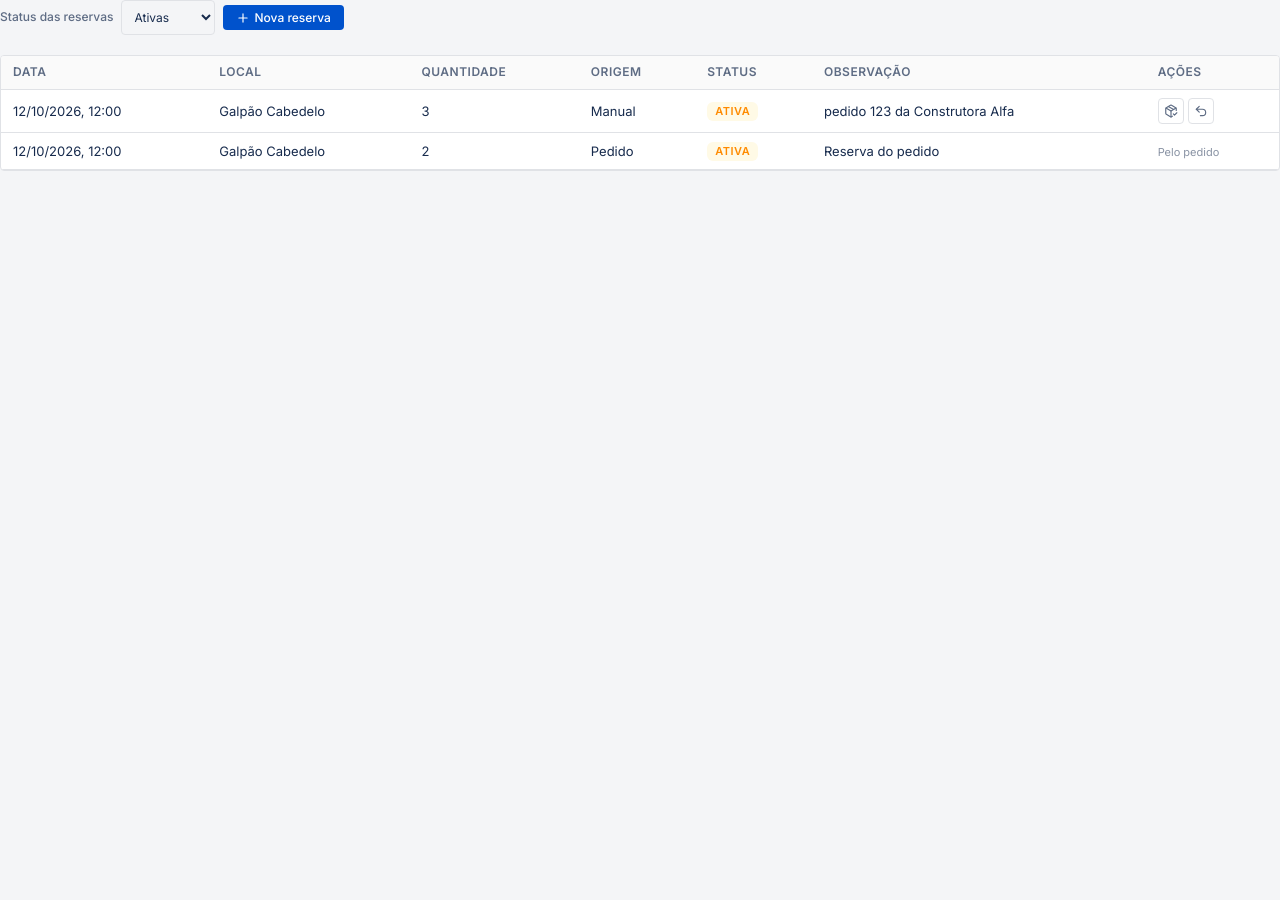
Test case: ReservasProduto › libera a reserva depois de confirmar e mostra o erro de reserva encerrada
The image size is (1280, 900).
Expected: the text "pedido 123 da Construtora Alfa" is shown, [824, 103, 1014, 119]
Click the button named "Liberar reserva". click: (1201, 111)
box: [1188, 98, 1214, 124]
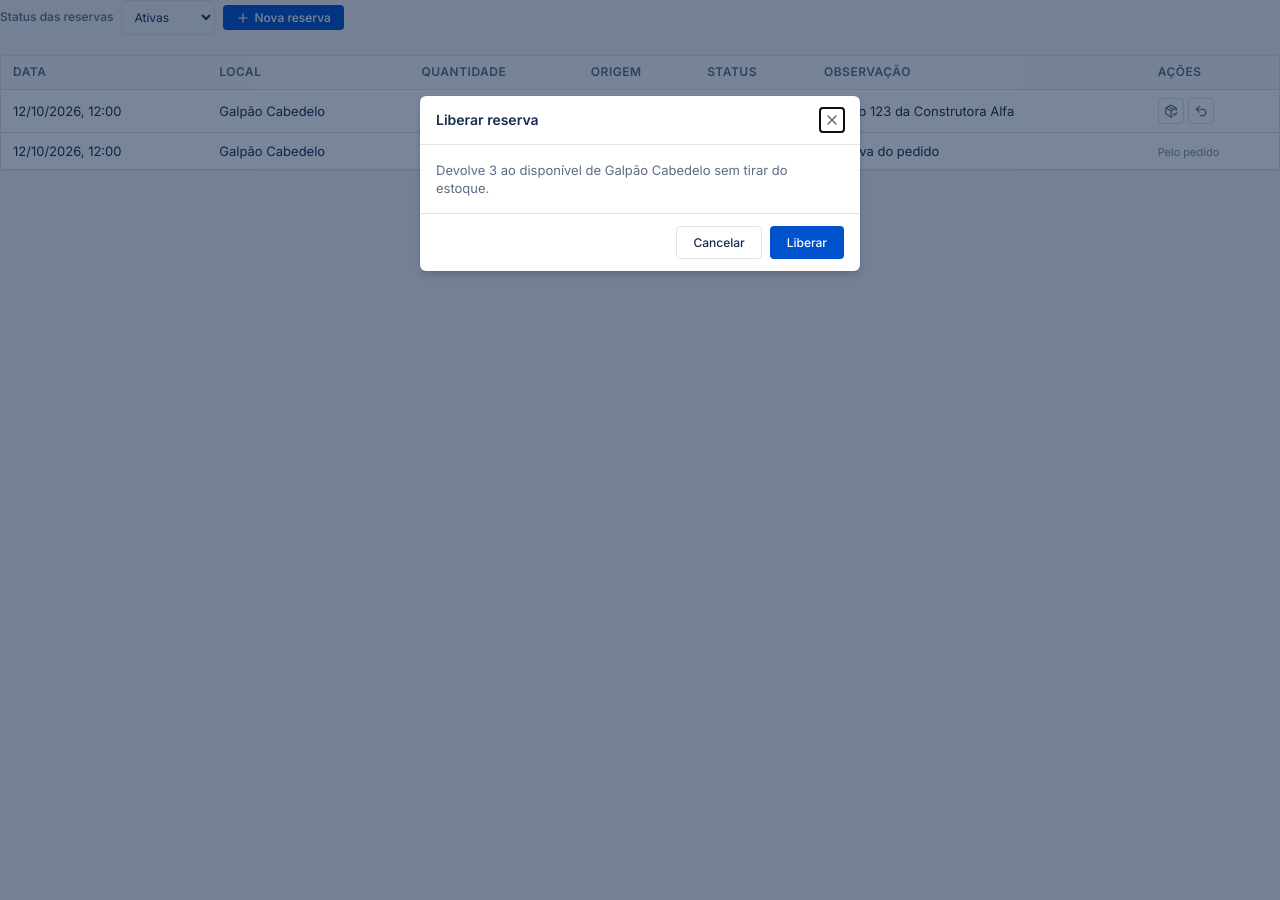
Click the button "Liberar". click: (807, 243)
box: [770, 226, 844, 259]
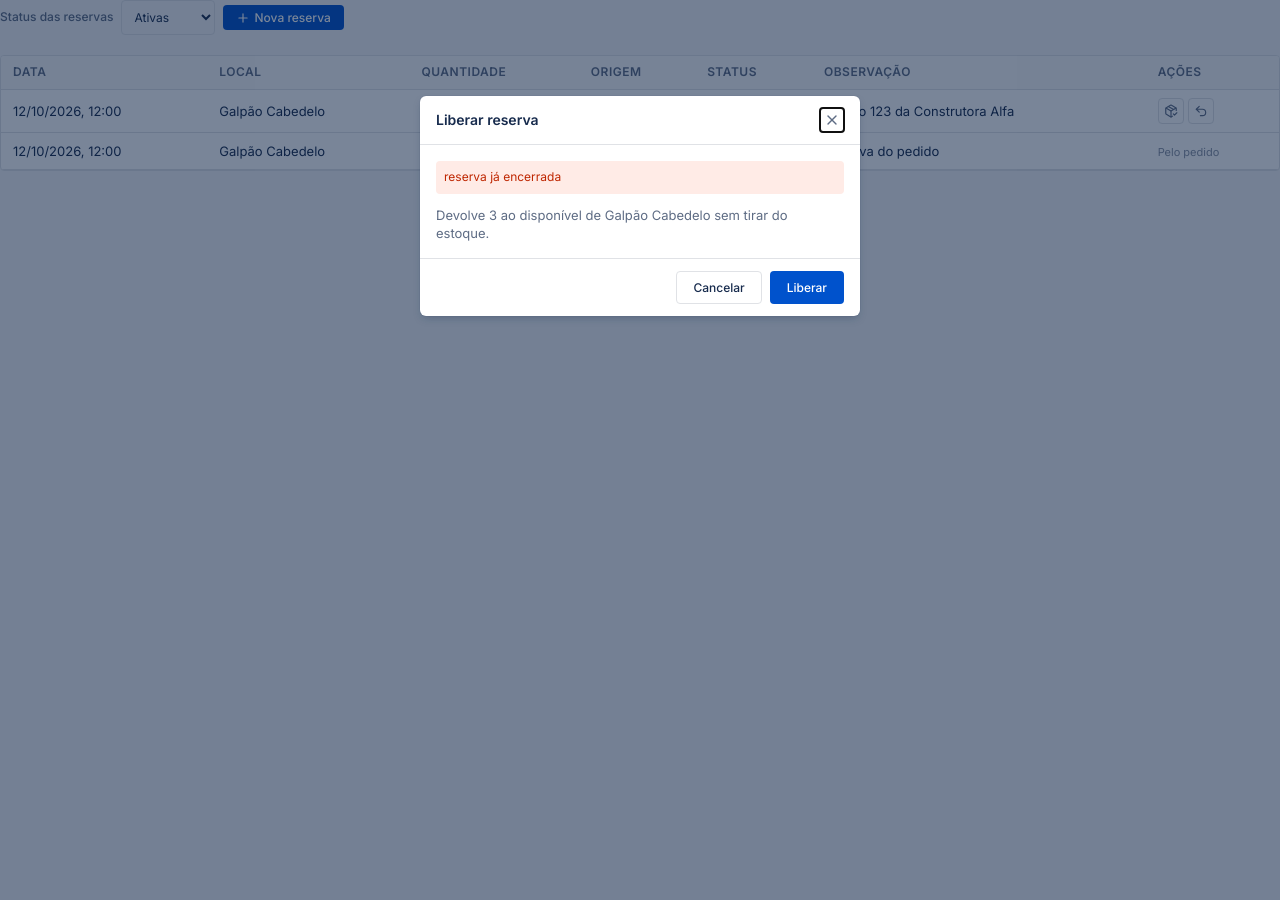
Expected: the text "reserva já encerrada" is shown, [436, 161, 844, 194]
Click the button "Liberar". click: (807, 288)
box: [770, 271, 844, 304]
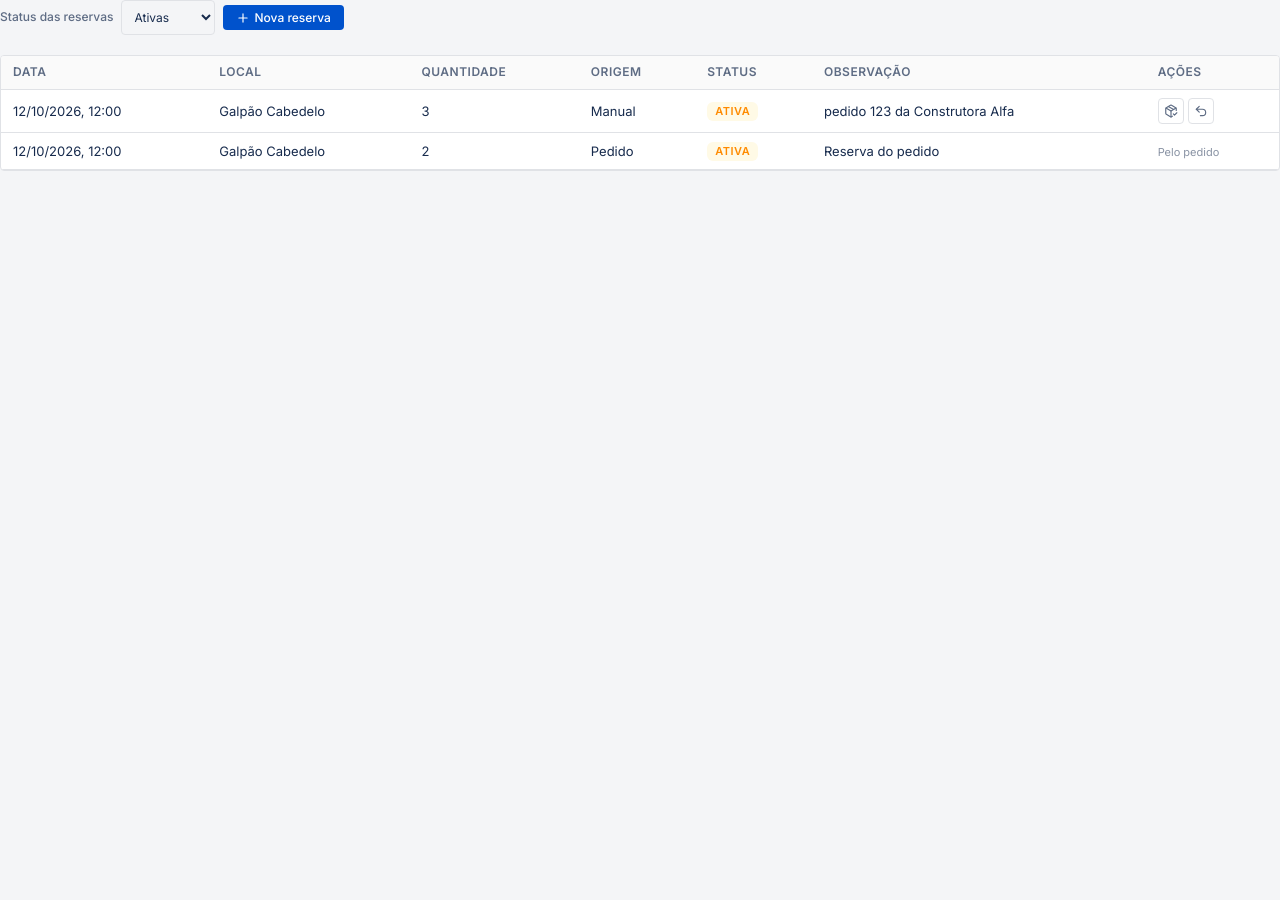
Expected: the dialog is gone
